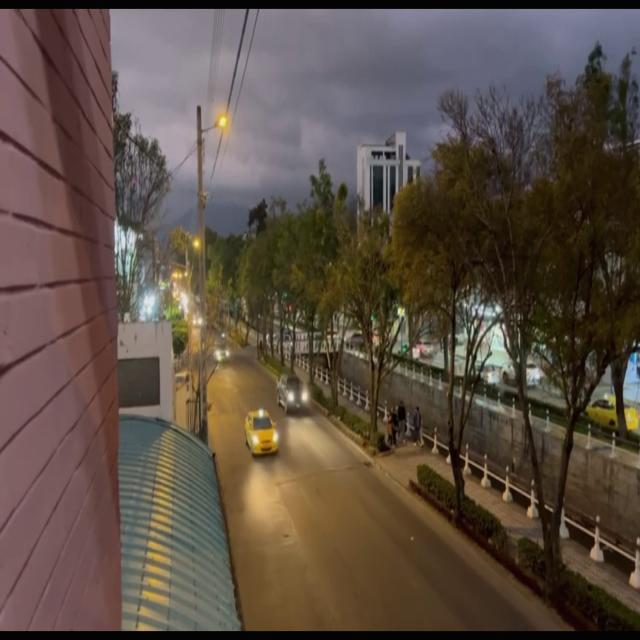CMT: (276, 372, 310, 414)
SED: (245, 411, 278, 458)
